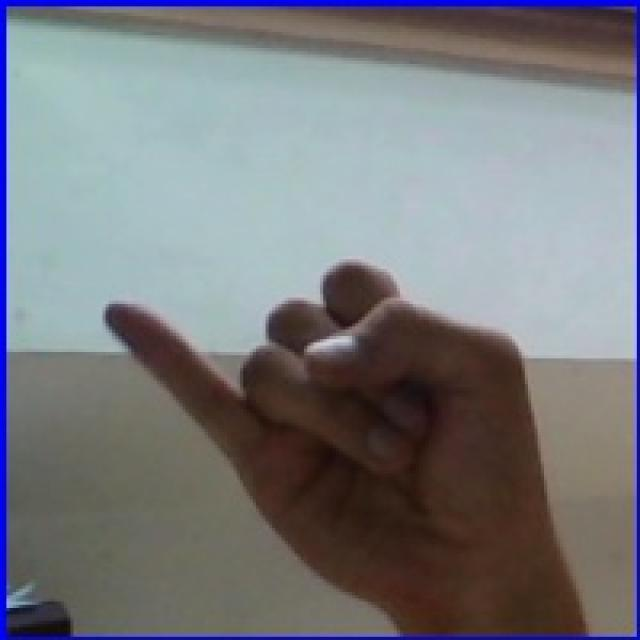J: (54, 202, 622, 632)
